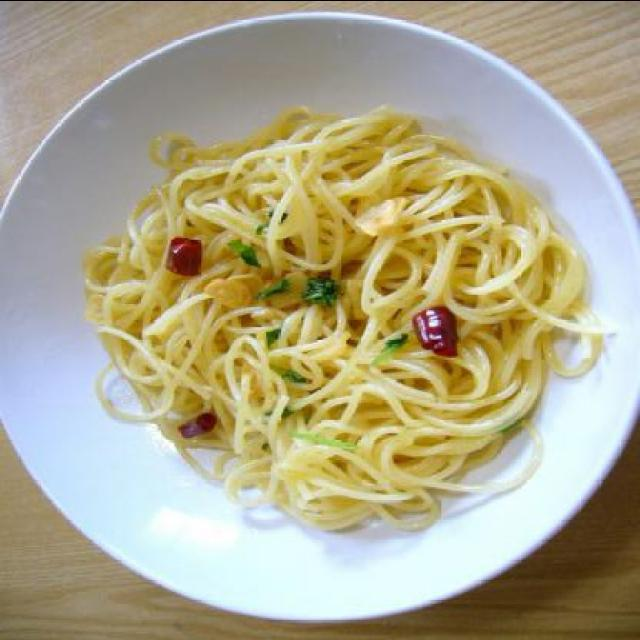Oil pasta: (67, 67, 585, 584)
